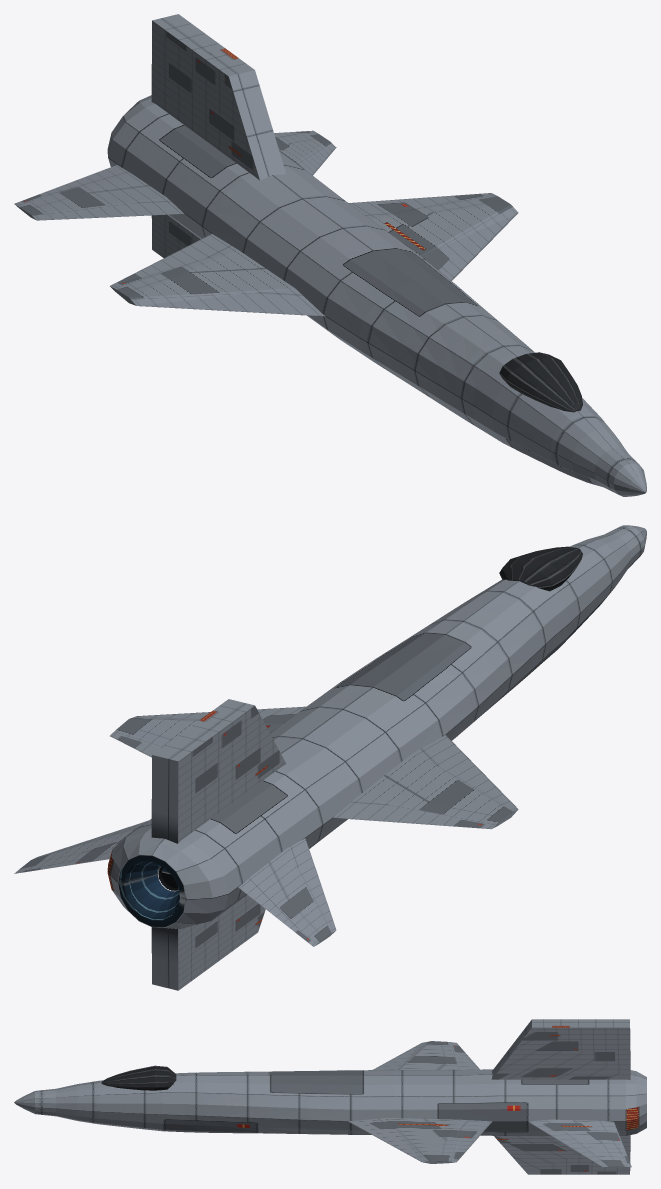
The model's file is PFL_X15_Hypersonic_Native.obj.
The picture shows the model from 3 angles, top to bottom: view 1: azimuth 30°, elevation 25°; view 2: azimuth 150°, elevation 25°; view 3: azimuth 270°, elevation 25°; orthographic projection. The views are drawn at different scales.
Visible parts, largest first — view 1: PFL_X15_Hypersonic_LowPoly; view 2: PFL_X15_Hypersonic_LowPoly; view 3: PFL_X15_Hypersonic_LowPoly.
Boxes of the visible parts, bbox=[...] form: PFL_X15_Hypersonic_LowPoly: bbox=[14, 14, 646, 496]; PFL_X15_Hypersonic_LowPoly: bbox=[14, 525, 646, 990]; PFL_X15_Hypersonic_LowPoly: bbox=[14, 1019, 646, 1174].
Size of the model in its own units: 6.81 by 3.91 by 15.25.
